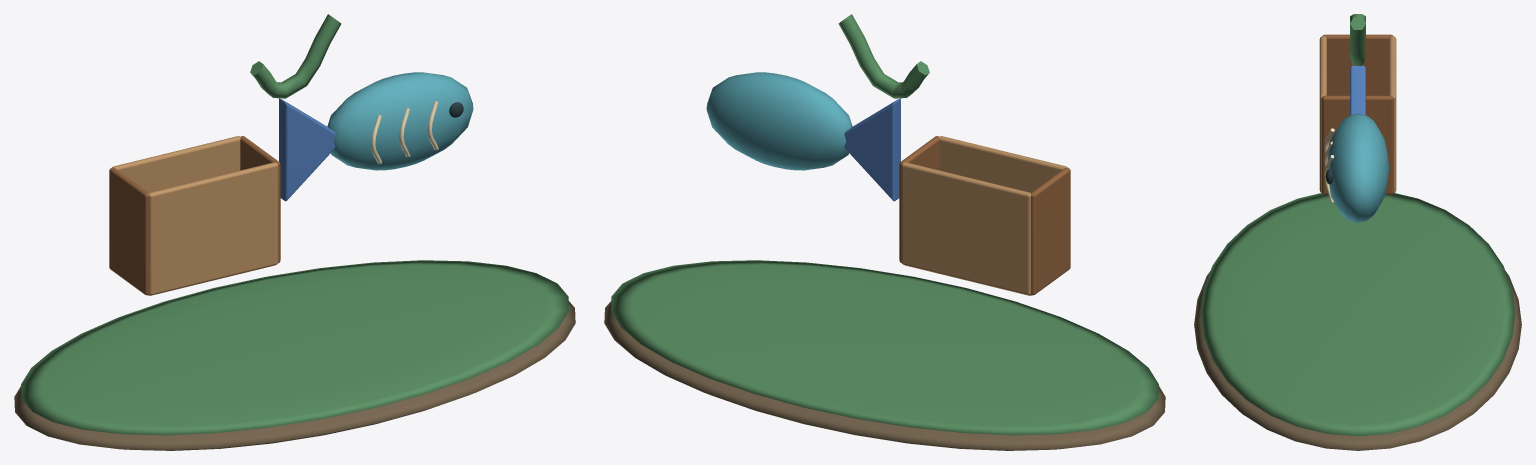
Rendered from complete-second-new-fresh.glb.
The picture shows the model from 3 angles, left to right: view 1: azimuth 30°, elevation 25°; view 2: azimuth 150°, elevation 25°; view 3: azimuth 270°, elevation 25°; orthographic projection. The views are drawn at different scales.
Parts seen in each view (by area): view 1: complete-second-new-fresh_surface_01, complete-second-new-fresh_surface_02, complete-second-new-fresh_surface_04, complete-second-new-fresh_surface_00, complete-second-new-fresh_surface_03, complete-second-new-fresh_surface_05, complete-second-new-fresh_surface_07; view 2: complete-second-new-fresh_surface_01, complete-second-new-fresh_surface_02, complete-second-new-fresh_surface_04, complete-second-new-fresh_surface_00, complete-second-new-fresh_surface_03, complete-second-new-fresh_surface_05; view 3: complete-second-new-fresh_surface_01, complete-second-new-fresh_surface_00, complete-second-new-fresh_surface_03, complete-second-new-fresh_surface_04, complete-second-new-fresh_surface_02, complete-second-new-fresh_surface_05, complete-second-new-fresh_surface_07.
Boxes of the visible parts, <box> form: complete-second-new-fresh_surface_01: <box>21,14,568,435</box>; complete-second-new-fresh_surface_02: <box>112,136,278,295</box>; complete-second-new-fresh_surface_04: <box>327,72,473,170</box>; complete-second-new-fresh_surface_00: <box>14,301,575,450</box>; complete-second-new-fresh_surface_03: <box>109,136,280,295</box>; complete-second-new-fresh_surface_05: <box>279,98,335,201</box>; complete-second-new-fresh_surface_07: <box>371,101,438,164</box>; complete-second-new-fresh_surface_01: <box>611,14,1158,435</box>; complete-second-new-fresh_surface_02: <box>901,136,1067,295</box>; complete-second-new-fresh_surface_04: <box>706,72,852,170</box>; complete-second-new-fresh_surface_00: <box>604,301,1165,450</box>; complete-second-new-fresh_surface_03: <box>899,136,1070,295</box>; complete-second-new-fresh_surface_05: <box>844,98,900,201</box>; complete-second-new-fresh_surface_01: <box>1200,14,1515,436</box>; complete-second-new-fresh_surface_00: <box>1194,271,1521,450</box>; complete-second-new-fresh_surface_03: <box>1322,34,1393,194</box>; complete-second-new-fresh_surface_04: <box>1327,113,1389,222</box>; complete-second-new-fresh_surface_02: <box>1319,36,1396,192</box>; complete-second-new-fresh_surface_05: <box>1350,65,1365,114</box>; complete-second-new-fresh_surface_07: <box>1324,128,1334,202</box>.
Size of the model in its own units: 4.56 by 2.86 by 2.5.
